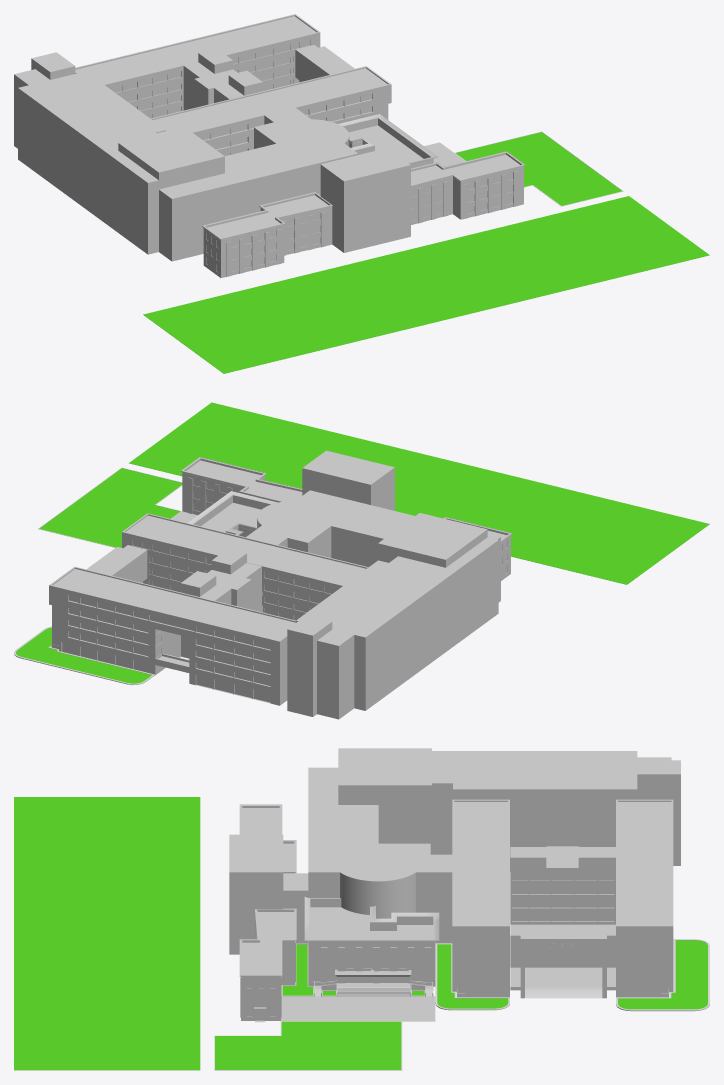
Rendered from tushuguan.fbx.
3 renders of one model, top to bottom at view 1: azimuth 30°, elevation 25°; view 2: azimuth 150°, elevation 25°; view 3: azimuth 270°, elevation 25°, orthographic. The views are drawn at different scales.
Visible parts, largest first — view 1: 立方体_4, 立方体_3_3, 立方体_9, 立方体_6, 立方体_8_3, 立方体_8_2, 立方体_3, 立方体_5_2, 立方体_4_3, 立方体_7, 立方体_1_4, window_2 (+4 smaller); view 2: 立方体_4, 立方体_9, 立方体_3_3, 立方体_3, 立方体_6, window_2, 立方体_8_3, 立方体_8_2, 立方体_5_2, 立方体_4_3, 立方体_2_4, 立方体_7 (+6 smaller); view 3: 立方体_4, 立方体_9, 立方体_3_3, 立方体_6, 立方体_3, 立方体_5_2, 立方体_8_3, 立方体_7, 立方体_4_3, 圆柱, 立方体_8_2, 立方体_1_4 (+14 smaller).
Part boxes in pixels (x1,y1,x2,y2): 立方体_4: (143,196,709,373); 立方体_3_3: (14,69,165,254); 立方体_9: (75,14,391,154); 立方体_6: (159,108,358,261); 立方体_8_3: (202,151,525,277); 立方体_8_2: (320,148,410,252); 立方体_3: (454,131,623,206); 立方体_5_2: (118,126,224,189); 立方体_4_3: (183,48,262,110); 立方体_7: (338,114,437,168); 立方体_1_4: (295,45,354,82); window_2: (198,94,372,155); 立方体_4: (129,402,709,584); 立方体_9: (49,513,368,705); 立方体_3_3: (296,537,498,719); 立方体_3: (38,467,182,547); 立方体_6: (246,490,500,605); window_2: (62,595,270,702); 立方体_8_3: (180,457,512,580); 立方体_8_2: (302,450,394,510); 立方体_5_2: (378,513,487,567); 立方体_4_3: (180,549,261,658); 立方体_2_4: (287,615,332,716); 立方体_7: (188,491,277,537); 立方体_4: (14,797,200,1070); 立方体_9: (452,799,673,997); 立方体_3_3: (432,751,671,871); 立方体_6: (308,767,452,943); 立方体_3: (214,1021,402,1070); 立方体_5_2: (338,748,431,854); 立方体_8_3: (239,804,296,1020); 立方体_7: (304,897,439,986); 立方体_4_3: (510,846,615,924); 圆柱: (333,843,422,918); 立方体_8_2: (229,834,283,954); 立方体_1_4: (510,924,615,998).
Bounding box in the file's own units: 15444 × 2414 × 16617.
